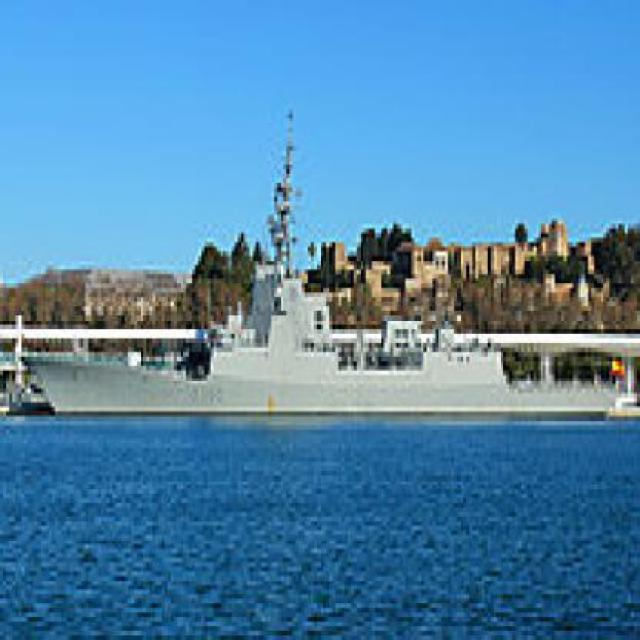warship2: (13, 138, 632, 426)
